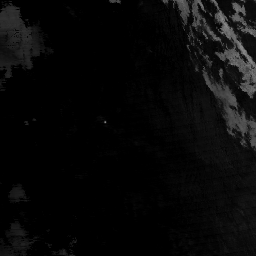Target: (103, 120, 107, 124)
